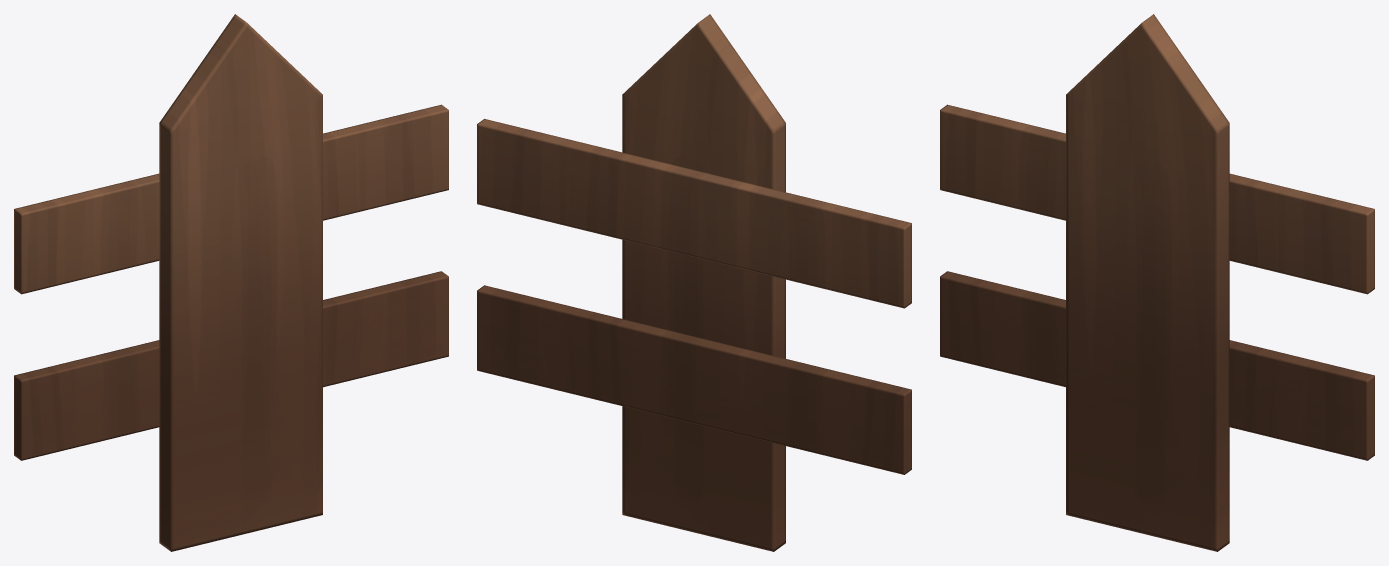
Rendered from Fance.fbx.
The picture shows the model from 3 angles, left to right: view 1: azimuth 30°, elevation 25°; view 2: azimuth 150°, elevation 25°; view 3: azimuth 330°, elevation 25°; orthographic projection.
Parts seen in each view (by area): view 1: pCube1, pCube2, pCube3; view 2: pCube1, pCube2, pCube3; view 3: pCube1, pCube2, pCube3.
Boxes of the visible parts, bbox=[...] form: pCube1: bbox=[159, 14, 322, 551]; pCube2: bbox=[14, 104, 448, 294]; pCube3: bbox=[14, 271, 448, 460]; pCube1: bbox=[622, 14, 785, 551]; pCube2: bbox=[477, 119, 911, 308]; pCube3: bbox=[477, 285, 911, 474]; pCube1: bbox=[1066, 14, 1229, 551]; pCube2: bbox=[940, 104, 1374, 294]; pCube3: bbox=[940, 271, 1374, 460].
Size of the model in its own units: 7.62 by 8.7 by 0.5959.
